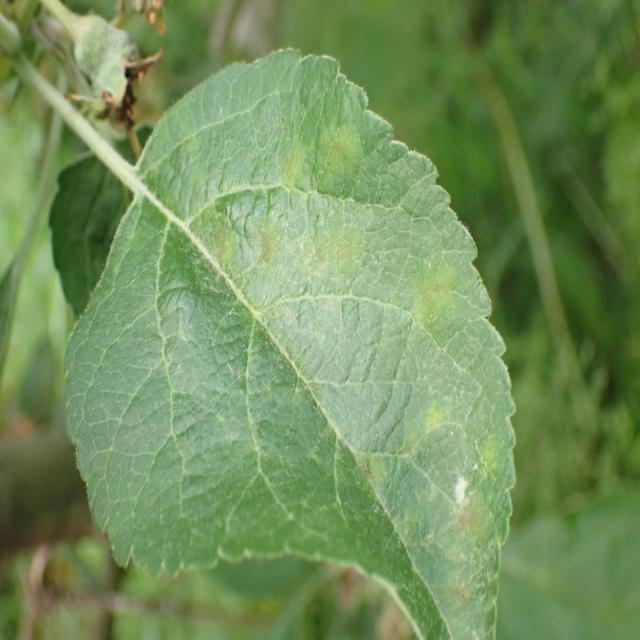scab: (149, 95, 507, 637)
